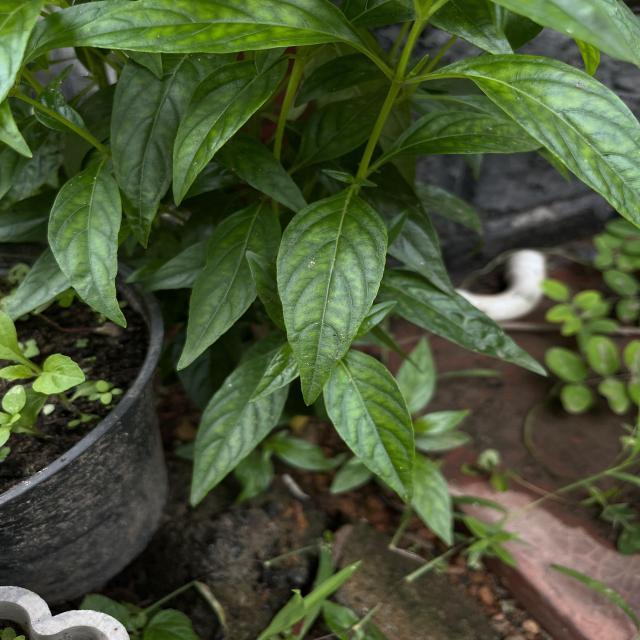Andrographis paniculata: (449, 54, 640, 232), (274, 191, 390, 408), (374, 265, 552, 379), (20, 0, 363, 57), (174, 196, 282, 372), (170, 54, 292, 209), (188, 345, 290, 508), (322, 348, 416, 505), (110, 55, 184, 251), (46, 163, 128, 330), (412, 451, 454, 546)
